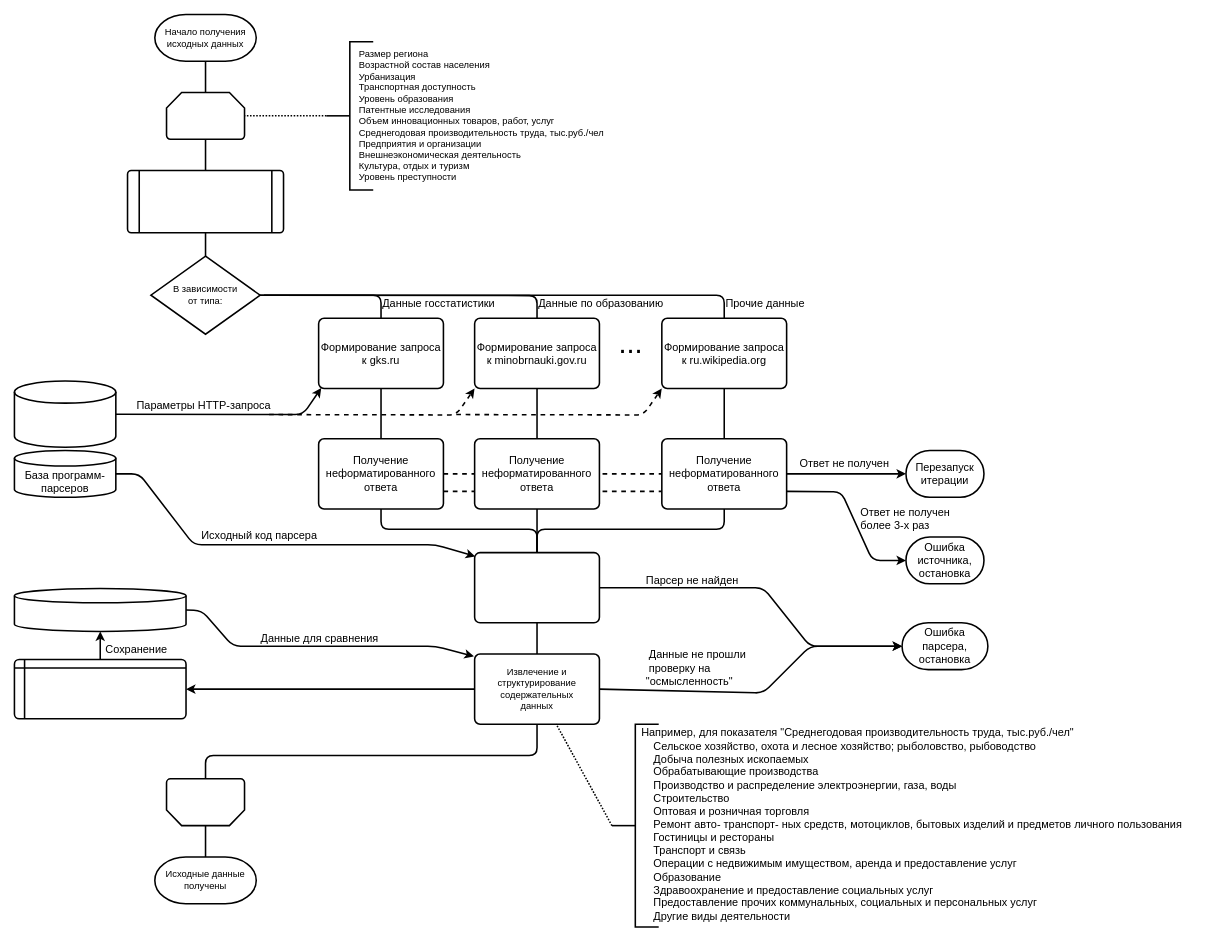
Image size: 1222x941. Some labels were removed from this diagram. Here are the shapes that lost their labels. From the top down, the box of each, then its label:
(165, 91, 245, 140): Цикл по показателям
(126, 169, 284, 233): Определение типа источника данных
(13, 380, 116, 448): База правил формирования запросов
(473, 551, 600, 623): Загрузка подходящего парсера
(13, 587, 186, 632): Сохраненные данные предыдущих сессий
(13, 658, 186, 719): Структурированные данные (cловарь Python, mongo)
(165, 778, 245, 826): Конец цикла
